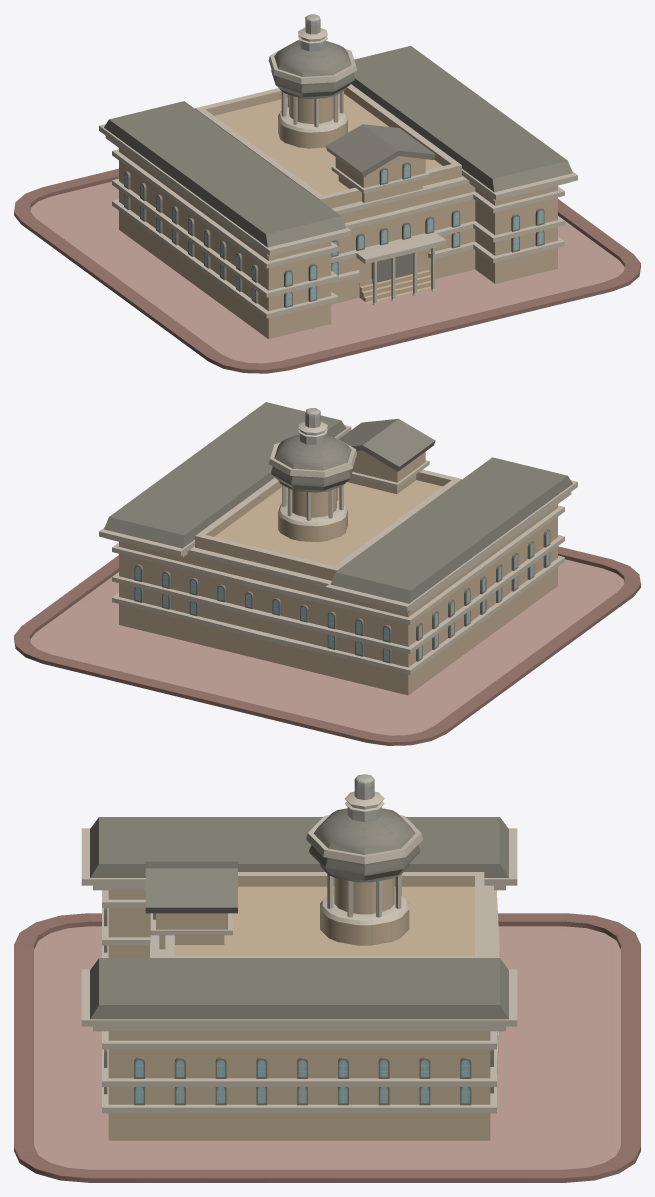
Rendered from Reitoria_Level_03.fbx.
3 views of the same model, one above another, from view 1: azimuth 30°, elevation 25°; view 2: azimuth 150°, elevation 25°; view 3: azimuth 270°, elevation 25° (orthographic). The views are drawn at different scales.
Visible parts, largest first — view 1: Predio_Reitoria_Level_03.005; view 2: Predio_Reitoria_Level_03.005; view 3: Predio_Reitoria_Level_03.005.
Part boxes in pixels (x1,y1,x2,y2): Predio_Reitoria_Level_03.005: (14, 14, 640, 373); Predio_Reitoria_Level_03.005: (14, 402, 640, 745); Predio_Reitoria_Level_03.005: (14, 774, 640, 1182).
Bounding box in the file's own units: 2000 × 963 × 2000.
